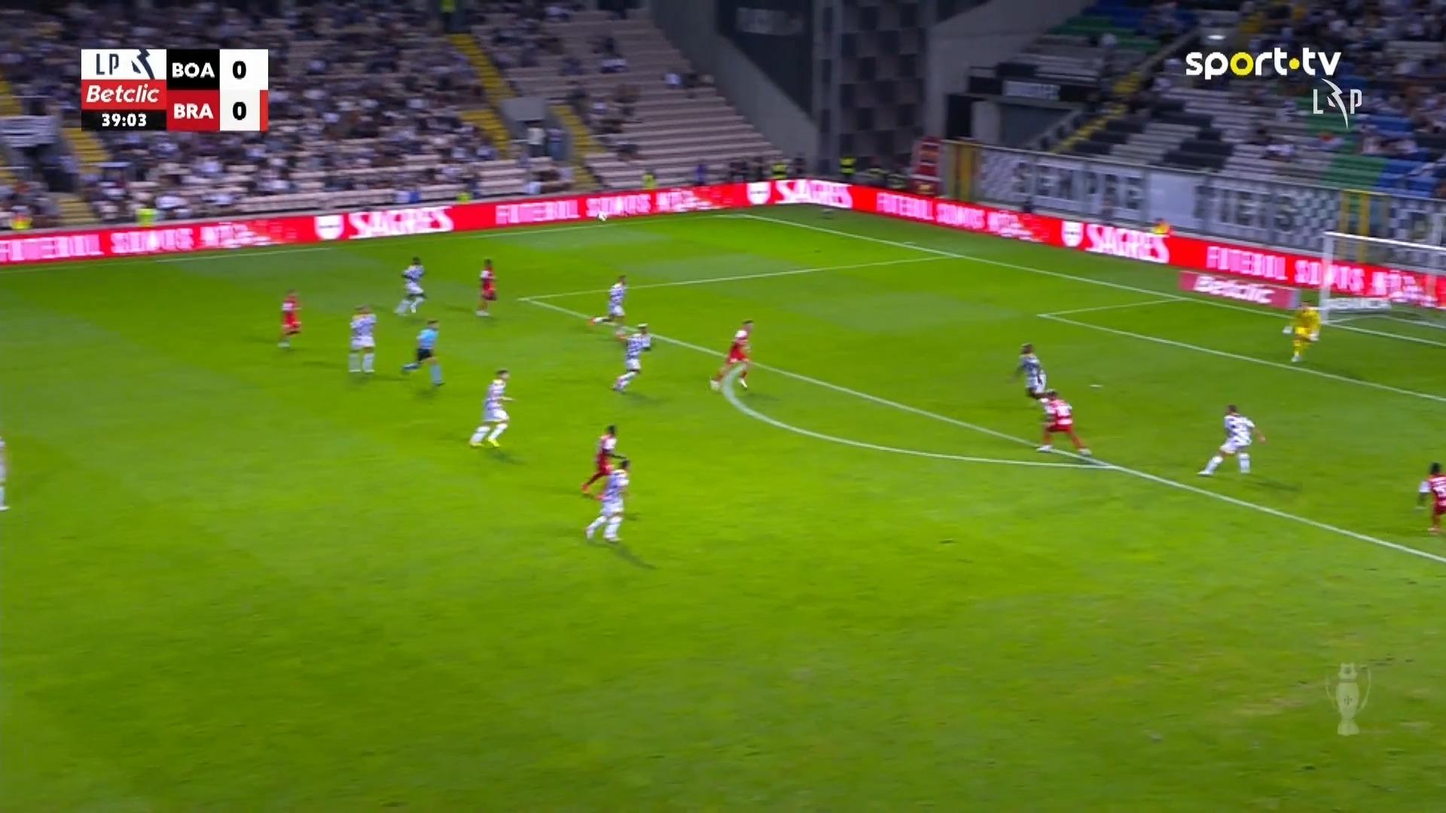goalkeeper: (1282, 300, 1320, 362)
player: (1196, 402, 1265, 477), (583, 458, 630, 542), (1034, 388, 1092, 456), (468, 367, 514, 448), (709, 318, 755, 392), (580, 423, 626, 495), (610, 321, 652, 393), (1008, 341, 1047, 400), (1414, 461, 1444, 532), (348, 304, 377, 373), (393, 255, 426, 315), (590, 273, 628, 325), (276, 289, 303, 349), (474, 257, 497, 316)
referee: (401, 318, 445, 385)
